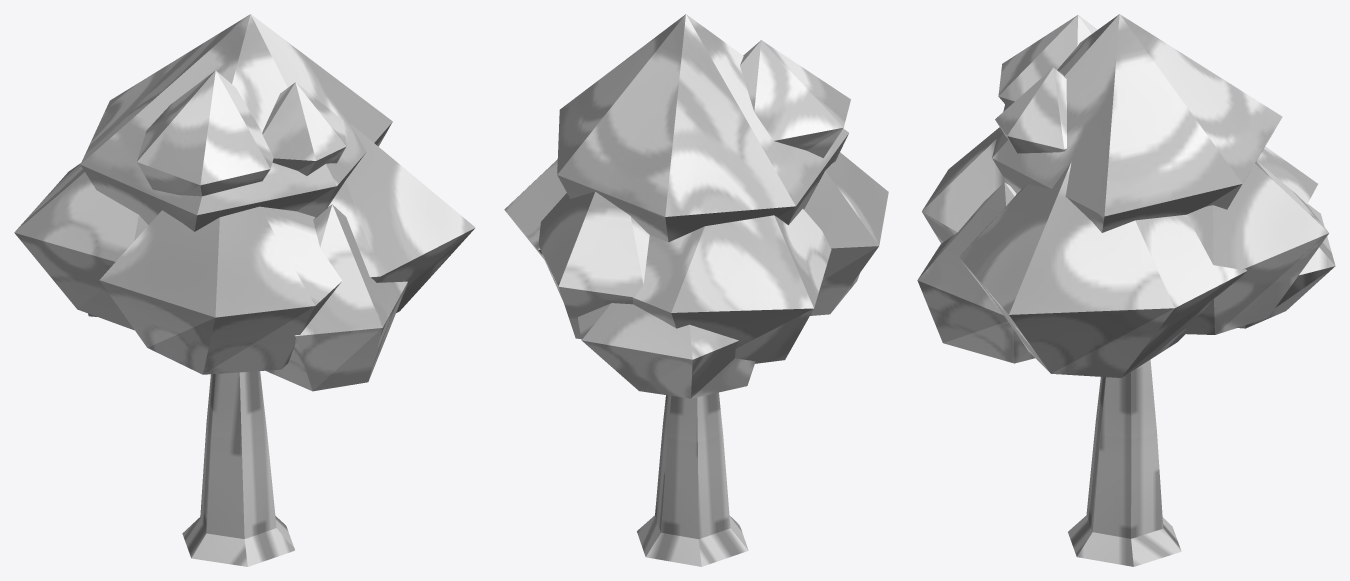
The model's file is tree_maple_1.obj.
3 views of the same model, side by side, from view 1: azimuth 30°, elevation 25°; view 2: azimuth 150°, elevation 25°; view 3: azimuth 270°, elevation 25° (orthographic).
Parts seen in each view (by area): view 1: tree_maple_1; view 2: tree_maple_1; view 3: tree_maple_1.
Part boxes in pixels (x1=…): tree_maple_1: x1=14, y1=14, x2=475, y2=566; tree_maple_1: x1=504, y1=14, x2=888, y2=566; tree_maple_1: x1=917, y1=14, x2=1335, y2=566.
Size of the model in its own units: 0.7528 by 1.08 by 0.765.
